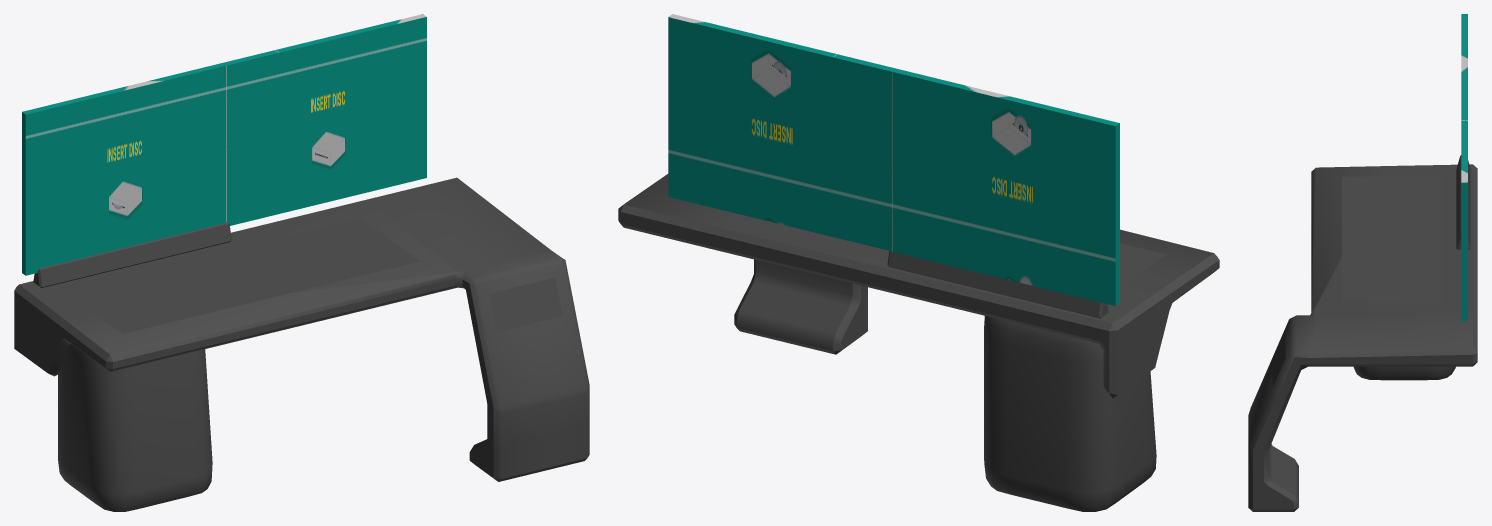
Rendered from PCController_02.fbx.
3 renders of one model, left to right at view 1: azimuth 30°, elevation 25°; view 2: azimuth 150°, elevation 25°; view 3: azimuth 270°, elevation 25°, orthographic. The views are drawn at different scales.
Parts seen in each view (by area): view 1: Screen, PCTable, Base, Keyboard, Stand, Deco; view 2: Screen, PCTable, Base, Stand, Keyboard; view 3: PCTable, Keyboard, Screen, Base, Stand, Deco.
Part boxes in pixels (x1,y1,x2,y2): Screen: (22,14,426,275); PCTable: (14,177,589,481); Base: (58,344,212,511); Keyboard: (64,218,419,333); Stand: (33,222,231,287); Deco: (489,277,562,332); Screen: (668,14,1119,305); PCTable: (618,174,1219,398); Base: (984,316,1156,511); Stand: (887,251,1108,318); Keyboard: (769,221,1166,288); PCTable: (1248,164,1477,511); Keyboard: (1342,176,1443,301); Screen: (1461,14,1467,321); Base: (1353,366,1455,380); Stand: (1456,155,1470,249); Deco: (1272,331,1285,387).
Bounding box in the file's own units: 93.4 × 48.18 × 72.7.
